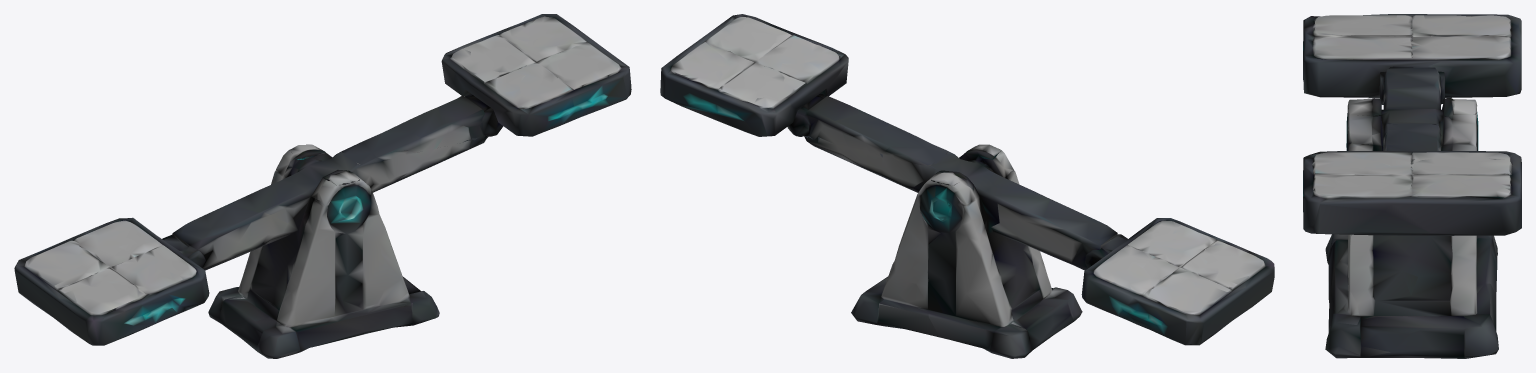
File: model-34-balance.glb
3 renders of one model, left to right at view 1: azimuth 30°, elevation 25°; view 2: azimuth 150°, elevation 25°; view 3: azimuth 270°, elevation 25°, orthographic. The views are drawn at different scales.
Parts seen in each view (by area): view 1: Frame, Moving; view 2: Frame, Moving; view 3: Frame, Moving.
Boxes of the visible parts, box(x1,y1,x2,y2) form: Frame: box(14, 135, 496, 358); Moving: box(289, 14, 631, 185); Frame: box(795, 135, 1274, 358); Moving: box(660, 14, 1001, 185); Frame: box(1303, 14, 1521, 358); Moving: box(1303, 98, 1521, 235).
Size of the model in its own units: 1.11 by 0.4109 by 0.2953.
